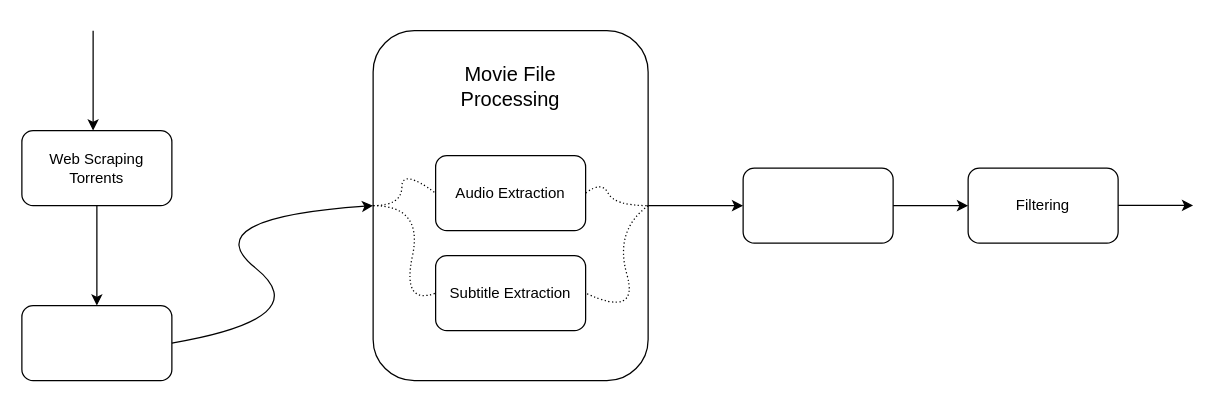
The diagram is 1225 pixels wide and 403 high, and some of its shapes have lost their labels. The shapes that lost their labels are listed below. From the top down, each one's centre as x and y in pixels, then its label:
At point (817, 205): "Audio Segmenting".
At point (96, 342): "Torrent Downloader".
